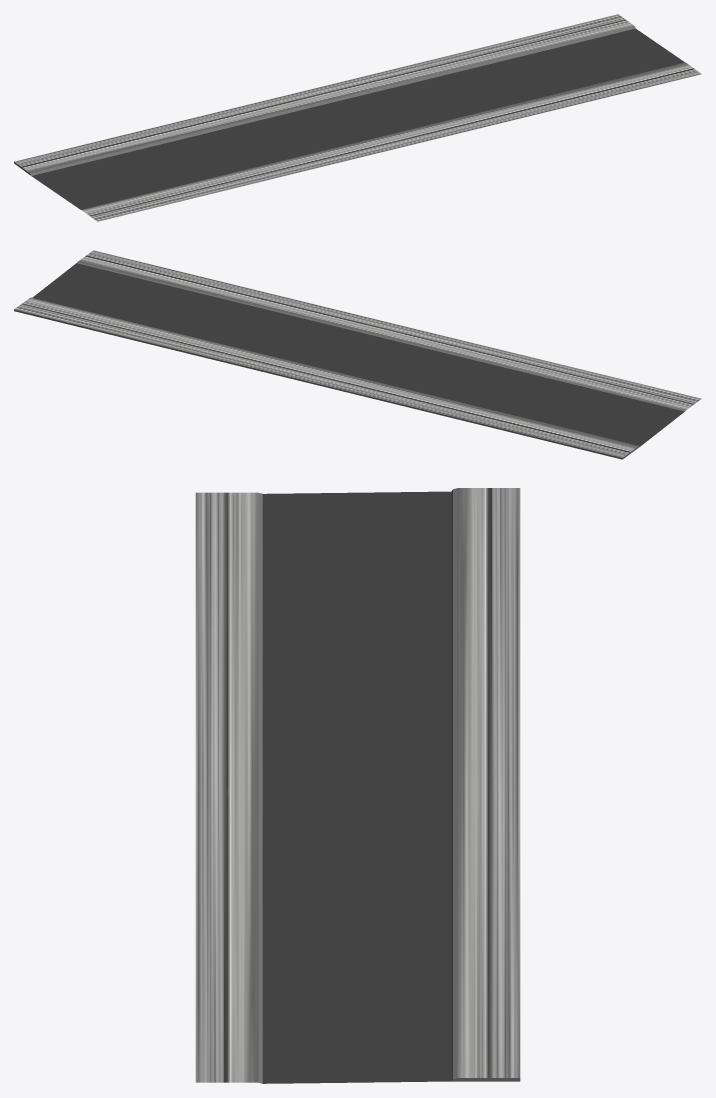
File: DUONG.fbx
3 renders of one model, top to bottom at view 1: azimuth 30°, elevation 25°; view 2: azimuth 150°, elevation 25°; view 3: azimuth 270°, elevation 25°, orthographic. The views are drawn at different scales.
Parts seen in each view (by area): view 1: DUONG.001, DUONG; view 2: DUONG.001, DUONG; view 3: DUONG.001, DUONG.
Boxes of the visible parts, left/top/right/bottom form: DUONG.001: left=31, top=28, right=684, bottom=209; DUONG: left=14, top=14, right=701, bottom=221; DUONG.001: left=32, top=263, right=684, bottom=446; DUONG: left=14, top=250, right=701, bottom=459; DUONG.001: left=262, top=491, right=451, bottom=1083; DUONG: left=195, top=488, right=520, bottom=1083.
Bounding box in the file's own units: 5225 × 14.14 × 1211.
Materials: 3 (1 with a texture image).
